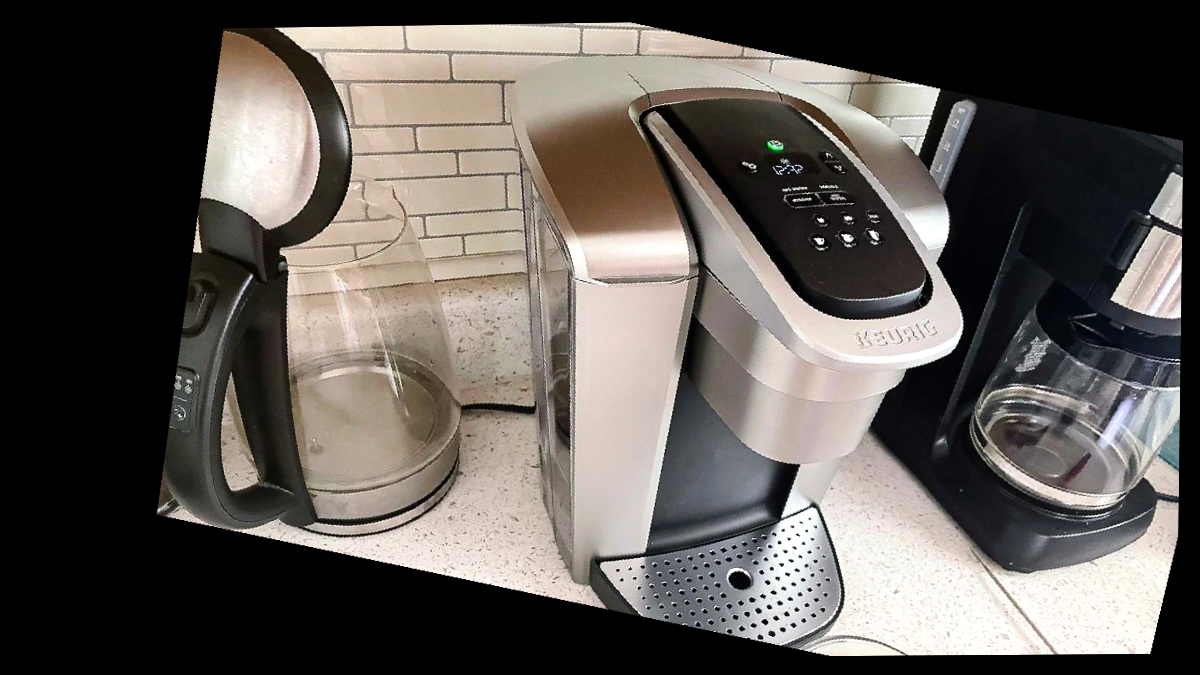10oz: (835, 229, 859, 250)
12oz: (861, 226, 886, 248)
4oz: (811, 212, 832, 228)
6oz: (837, 210, 858, 226)
8oz: (807, 231, 832, 253)
add_water: (779, 175, 817, 195)
coffee_handle: (854, 332, 975, 384)
descale: (816, 176, 846, 192)
hot: (819, 188, 856, 208)
iced: (862, 207, 883, 223)
power: (765, 139, 787, 153)
strong: (782, 191, 820, 210)
water_handle: (575, 274, 692, 288)
